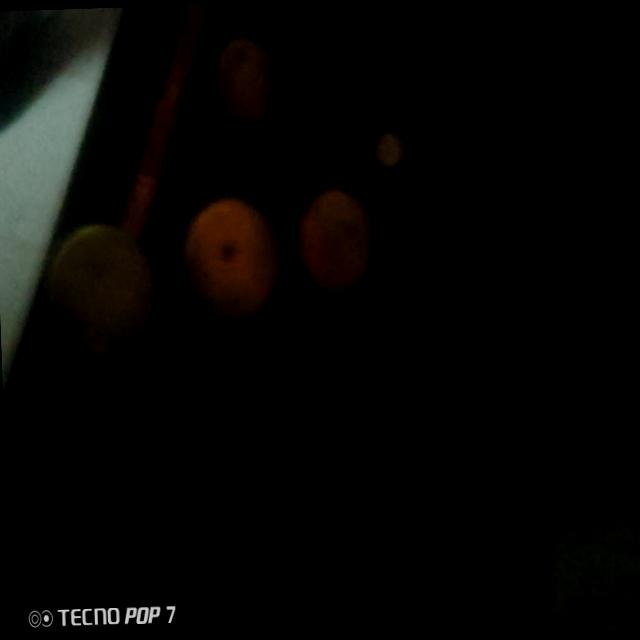agrume: (51, 228, 164, 360), (177, 190, 279, 323), (205, 34, 283, 130), (303, 190, 373, 294)
